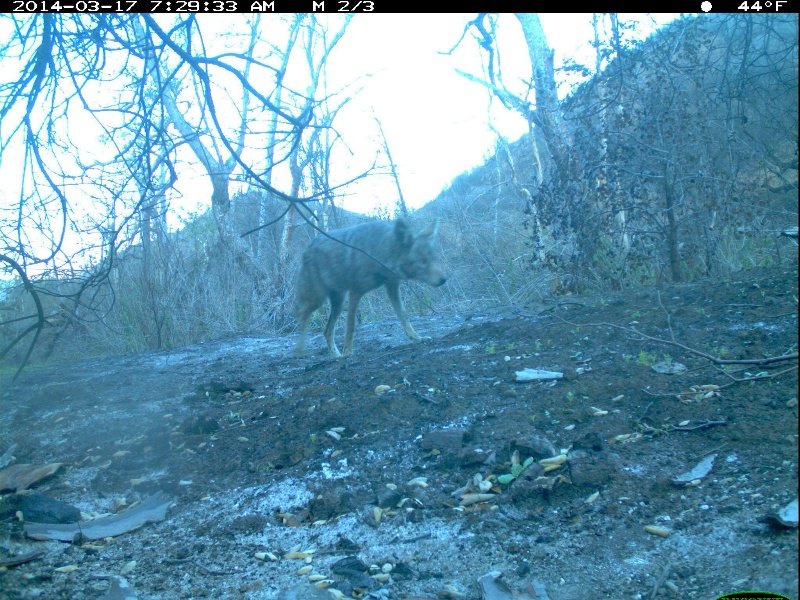coyote: (290, 214, 452, 366)
